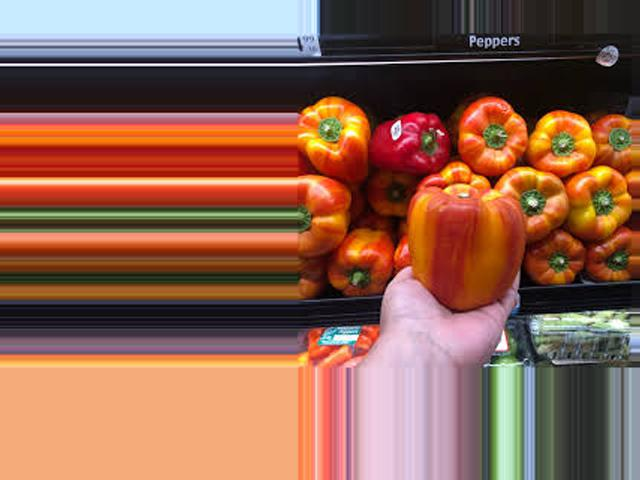bell_pepper: (320, 225, 399, 287)
